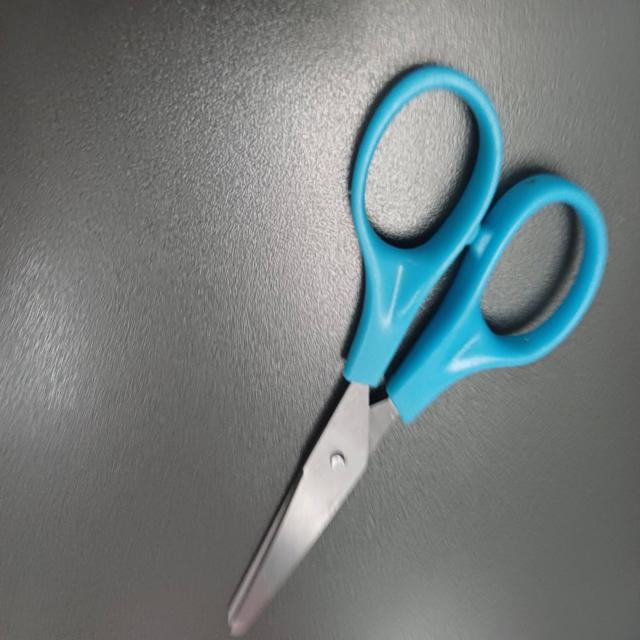scissors: (208, 43, 621, 640)
